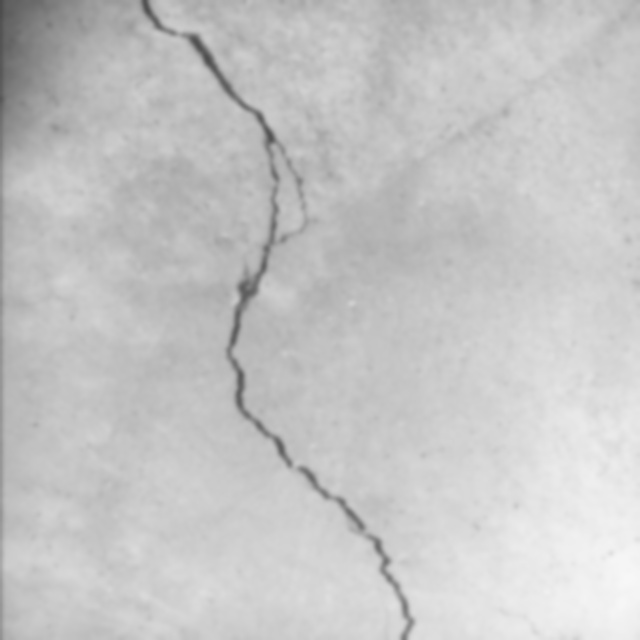SurfaceCrack: (196, 0, 446, 640)
